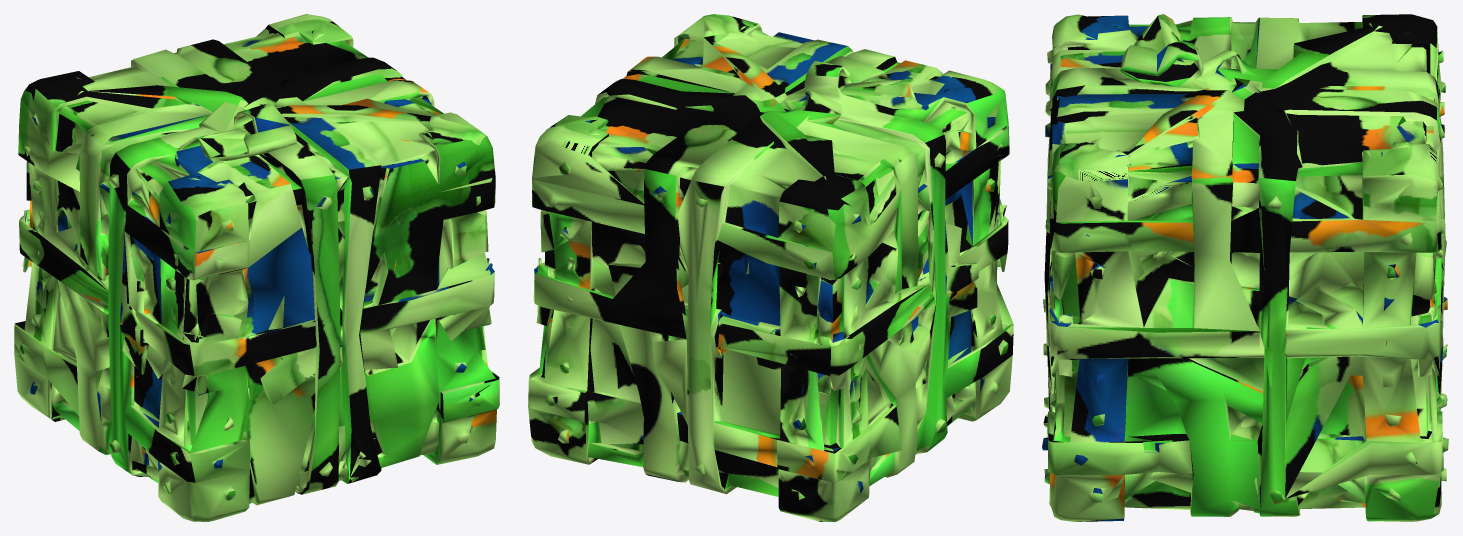
Rendered from cubo_chatarra.fbx.
3 renders of one model, left to right at view 1: azimuth 30°, elevation 25°; view 2: azimuth 150°, elevation 25°; view 3: azimuth 270°, elevation 25°, orthographic. The views are drawn at different scales.
Parts seen in each view (by area): view 1: Mesh1.0; view 2: Mesh1.0; view 3: Mesh1.0.
Part boxes in pixels (<box>): Mesh1.0: <box>14,14,499,521</box>; Mesh1.0: <box>528,14,1013,521</box>; Mesh1.0: <box>1042,14,1448,521</box>.
Size of the model in its own units: 185 by 191 by 183.
